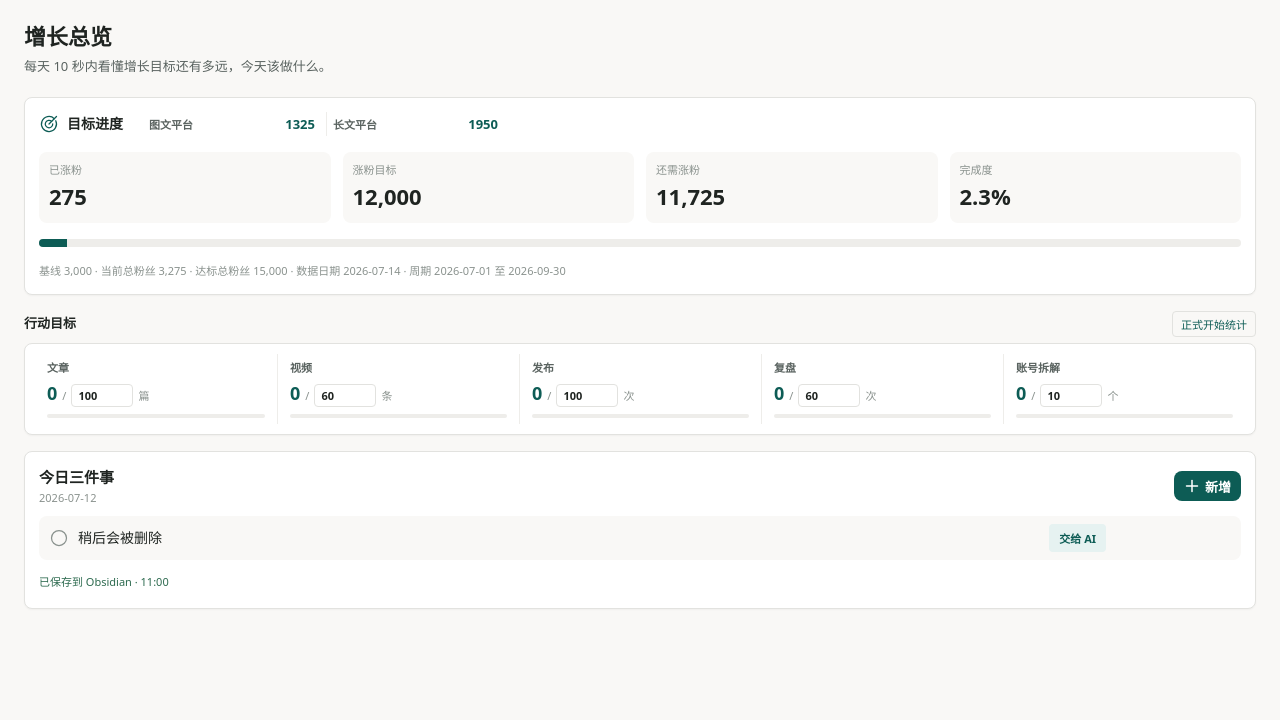
Test: 今日三件事双向同步 › Obsidian 删除当天文件时仍能载入空版本解除冲突
Expected: the text "稍后会被删除" is shown, [78, 528, 162, 547]
Click the button named "将“稍后会被删除”标记为完成": (59, 538) [48, 528, 70, 548]
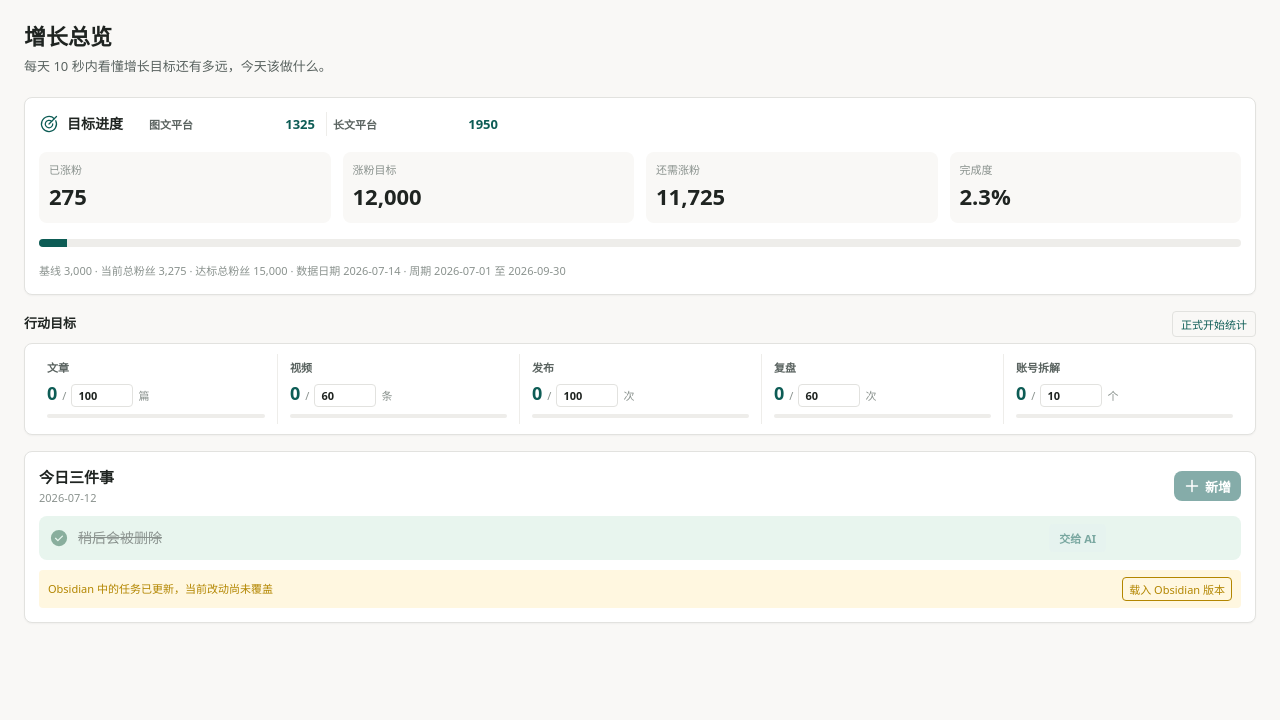
Result: the message shows "当前改动尚未覆盖" at [48, 581, 273, 596]
Click the button "载入 Obsidian 版本": (1177, 589) [1122, 577, 1232, 601]
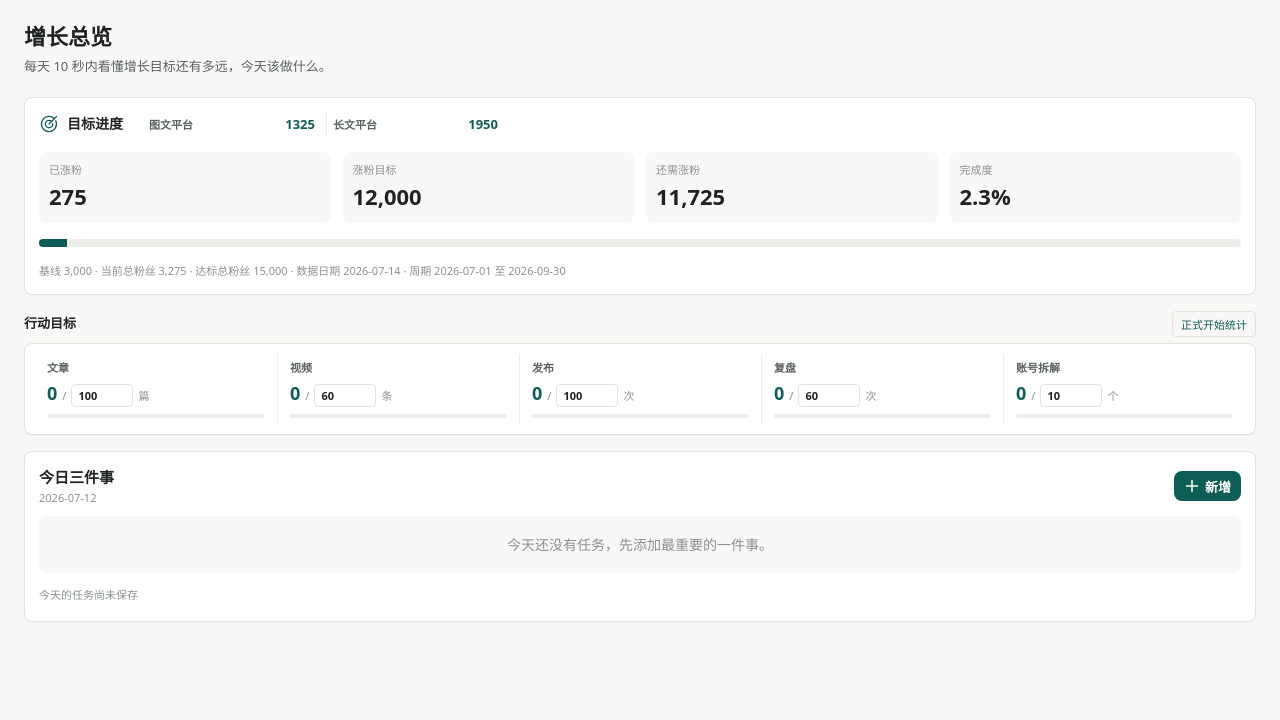
Result: the text "今天还没有任务，先添加最重要的一件事。" is shown at [39, 516, 1241, 573]
Result: the message shows "尚未保存" at [39, 587, 138, 602]
